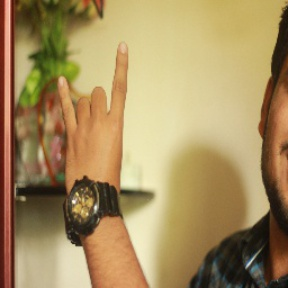V: (54, 38, 134, 208)
